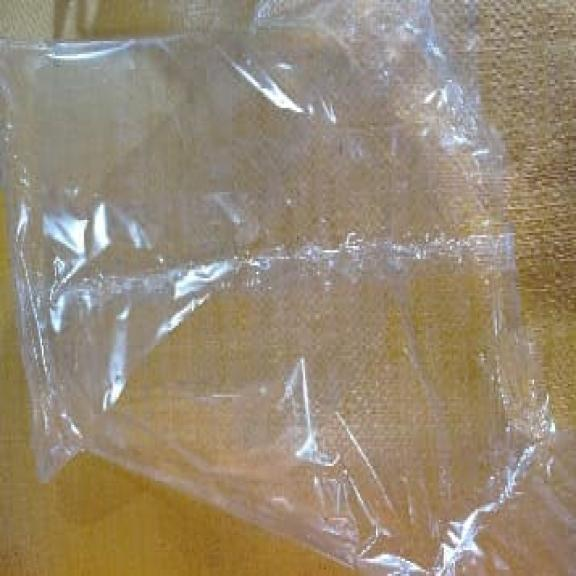Plastik: (0, 3, 574, 572)
